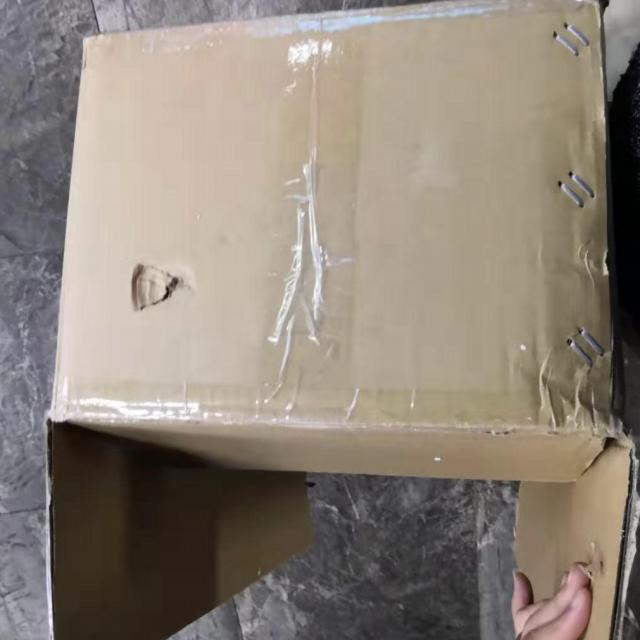damaged: (128, 261, 182, 311)
